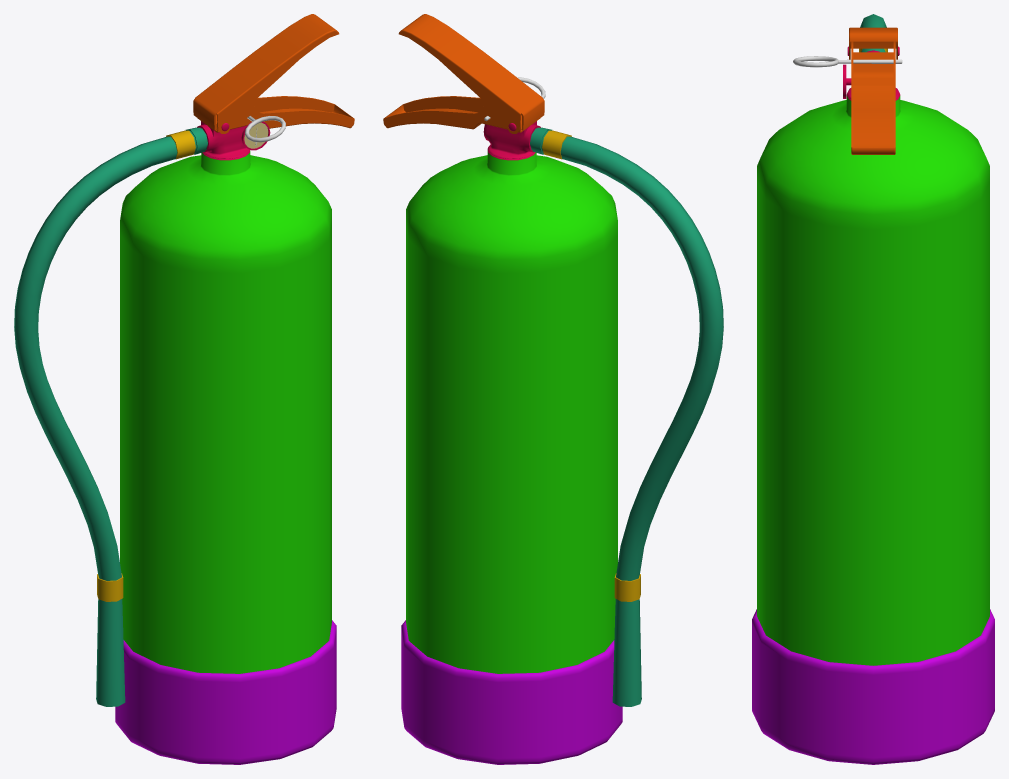
File: fire_extinguisher.fbx
3 views of the same model, side by side, from view 1: azimuth 30°, elevation 25°; view 2: azimuth 150°, elevation 25°; view 3: azimuth 270°, elevation 25° (orthographic). The views are drawn at different scales.
Parts seen in each view (by area): view 1: Sammutin, Letku, Liipasin; view 2: Sammutin, Letku, Liipasin; view 3: Sammutin, Liipasin, Sokka.
Part boxes in pixels (<box>): Sammutin: <box>115,96,354,764</box>; Letku: <box>14,127,207,706</box>; Liipasin: <box>193,14,339,133</box>; Sammutin: <box>383,96,622,764</box>; Letku: <box>530,127,723,706</box>; Liipasin: <box>398,14,544,133</box>; Sammutin: <box>752,41,994,764</box>; Liipasin: <box>847,27,899,59</box>; Sokka: <box>793,56,902,67</box>.
Size of the model in its own units: 33.85 by 66.25 by 19.84.
